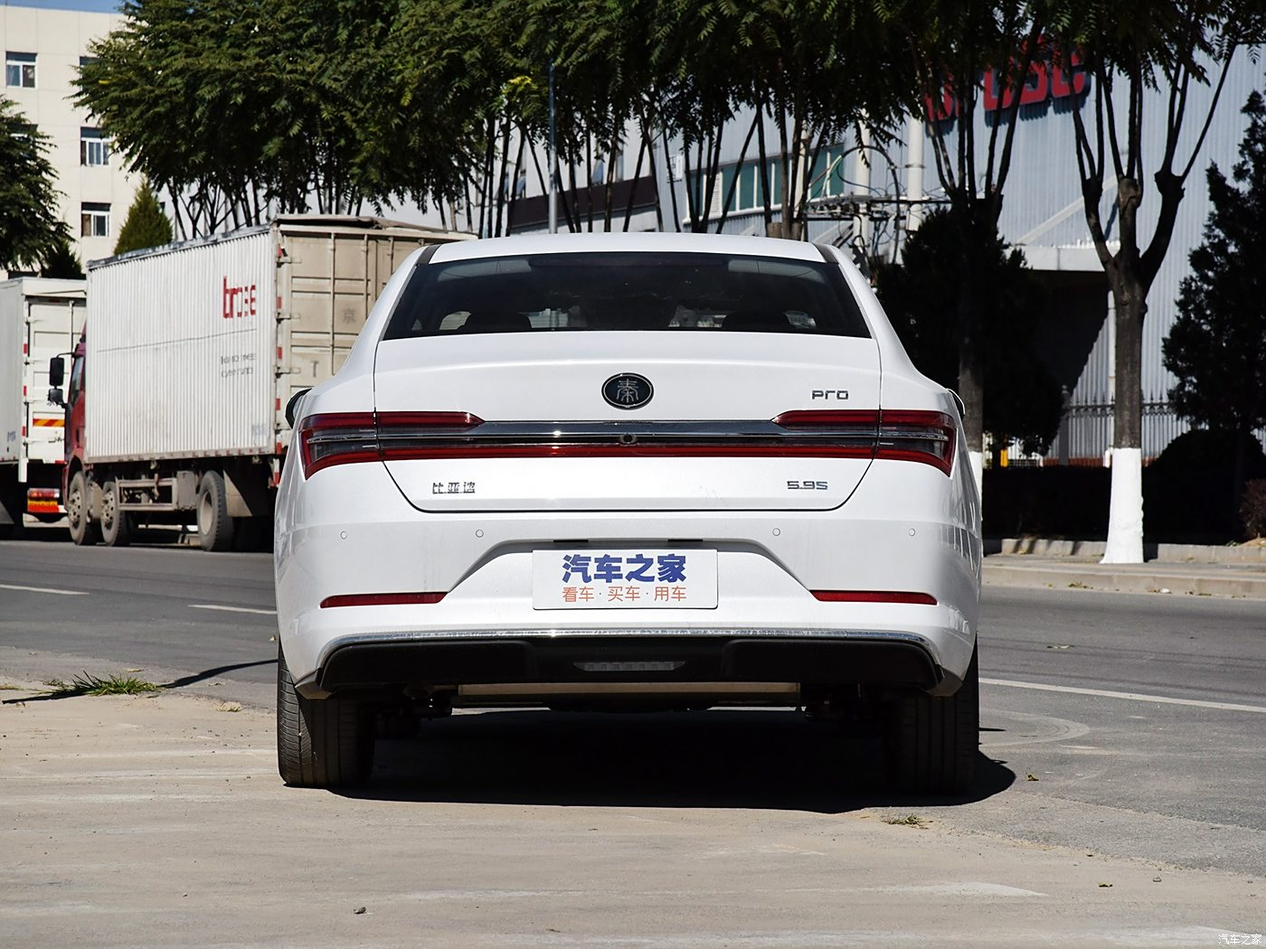BYD Qin: (602, 373, 653, 409)
